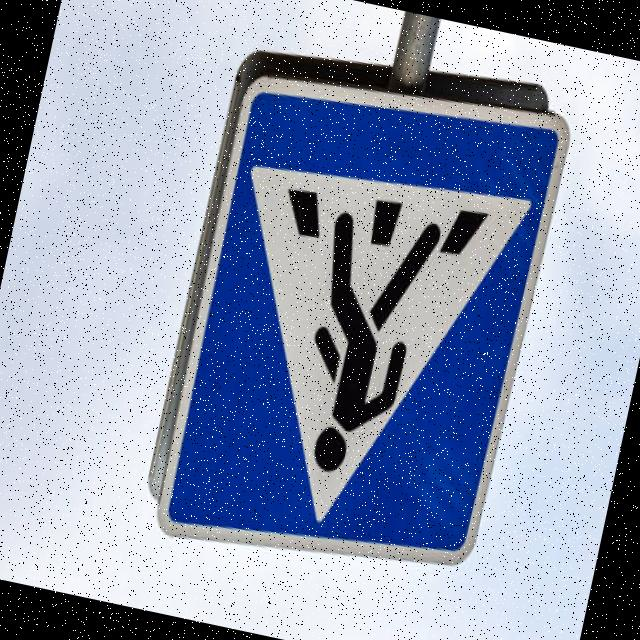crosswalk: (140, 34, 584, 622)
